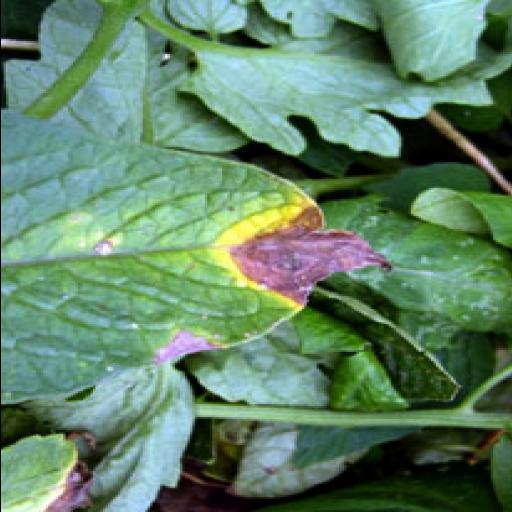Early Blight: (0, 106, 398, 417)
